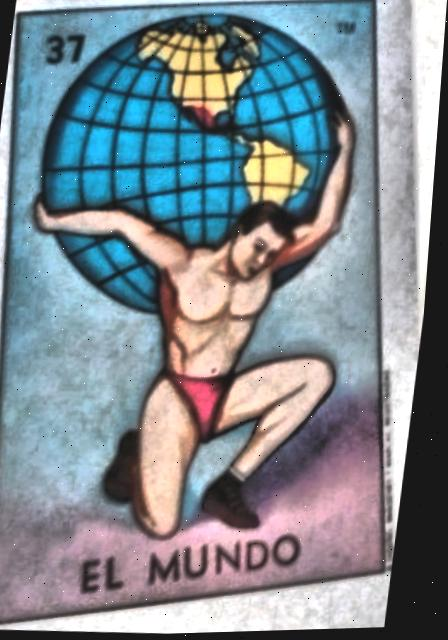El Mundo: (0, 5, 396, 627)
